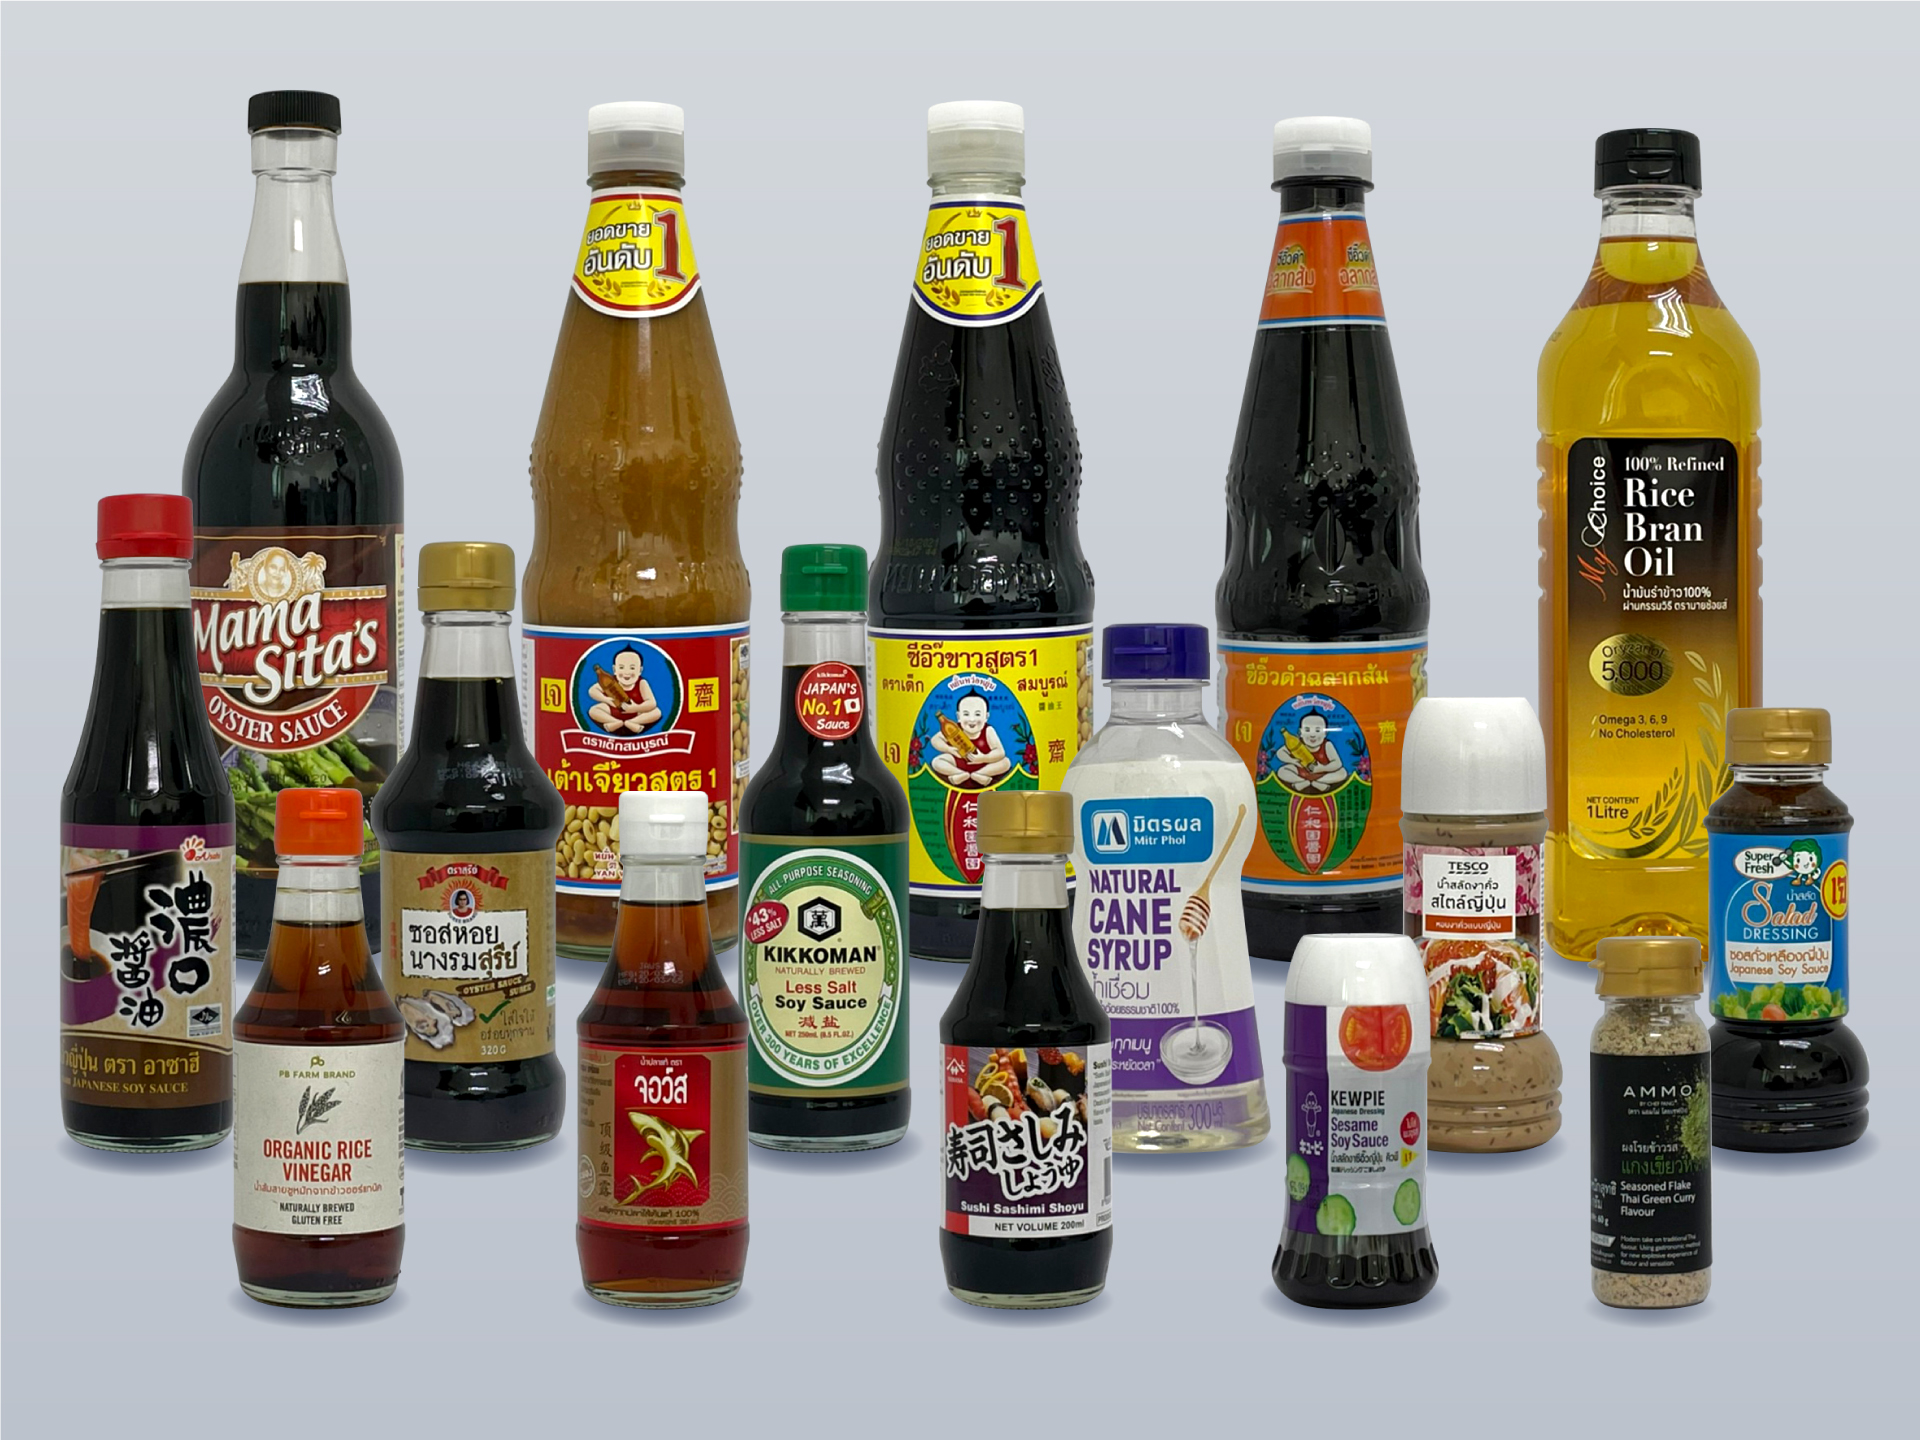glass_bottle: (42, 76, 1891, 1342)
